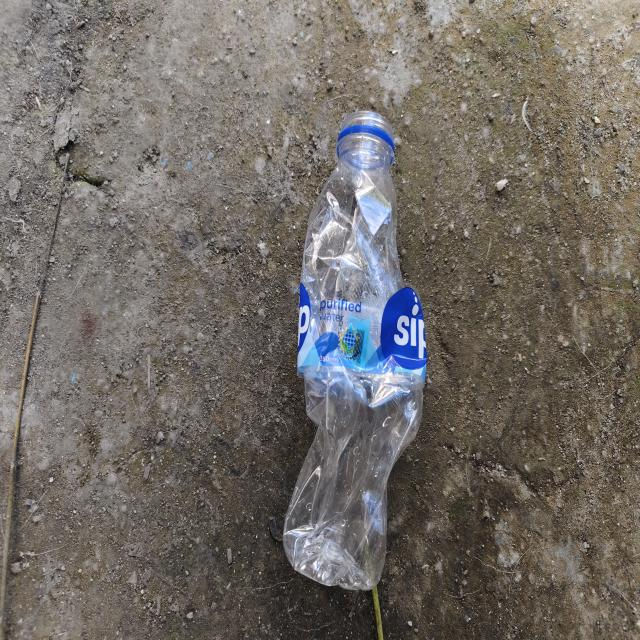Bottle: (280, 111, 428, 590)
